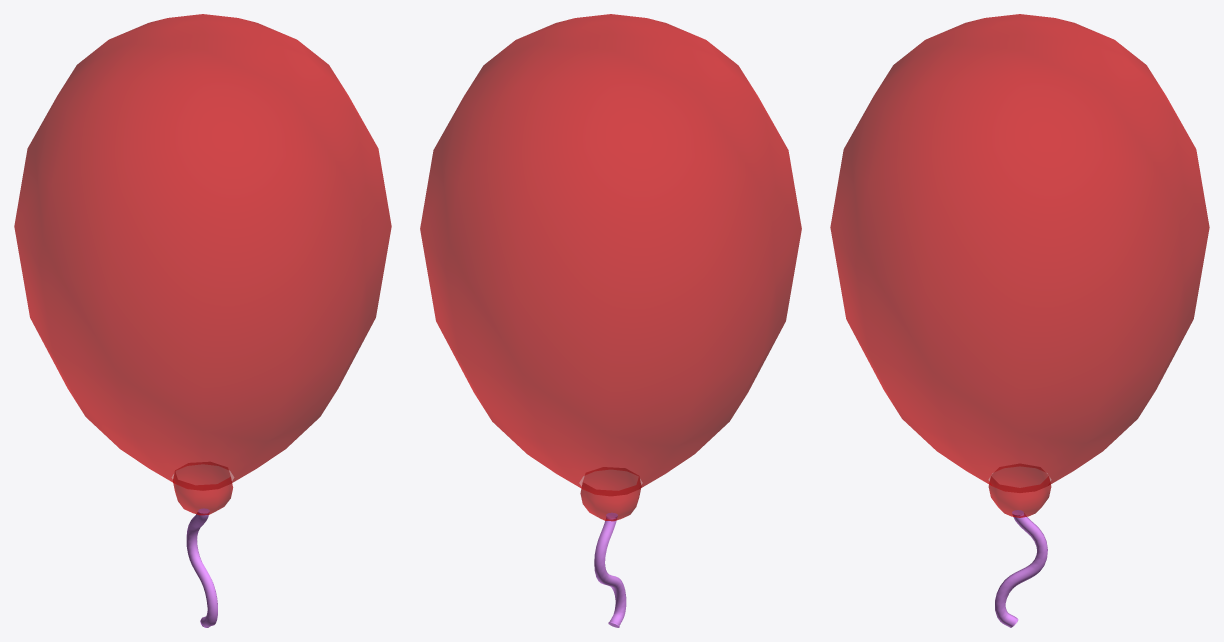
The model's file is globo.fbx.
3 views of the same model, side by side, from view 1: azimuth 30°, elevation 25°; view 2: azimuth 150°, elevation 25°; view 3: azimuth 270°, elevation 25° (orthographic).
Parts seen in each view (by area): view 1: globo; view 2: globo; view 3: globo.
Part boxes in pixels (x1,y1,x2,y2): globo: (14, 14, 391, 627); globo: (420, 14, 801, 627); globo: (830, 14, 1209, 627).
Size of the model in its own units: 310 by 534 by 310.
